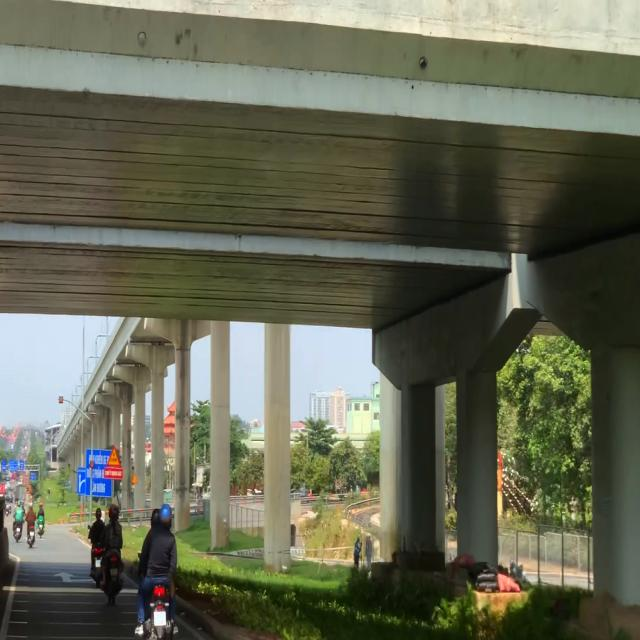Nguy hiem: (108, 445, 120, 467)
